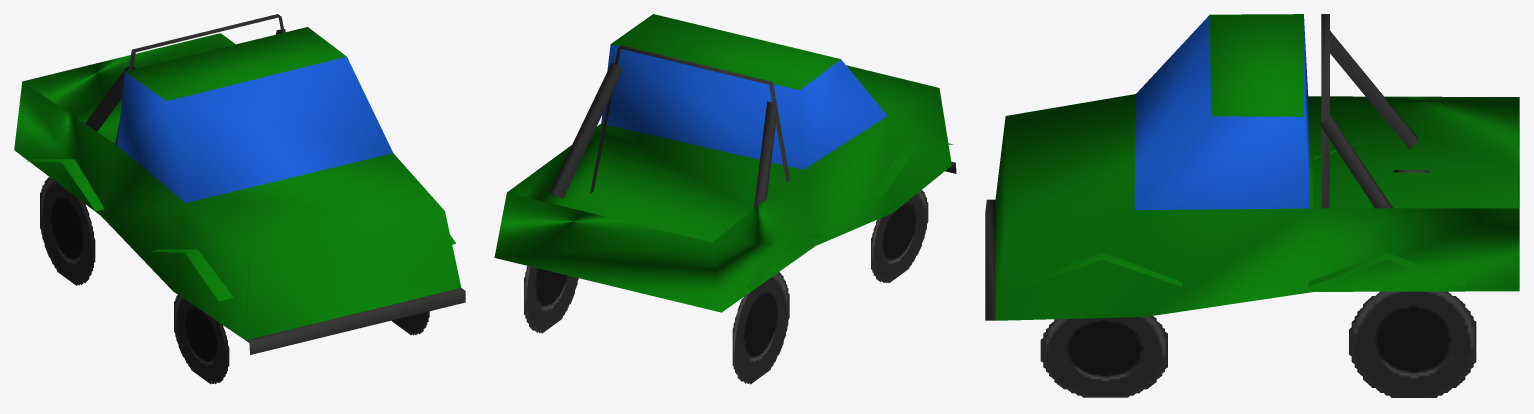
File: ORG_TRUCK_GREEN.obj
The picture shows the model from 3 angles, left to right: view 1: azimuth 30°, elevation 25°; view 2: azimuth 150°, elevation 25°; view 3: azimuth 270°, elevation 25°; orthographic projection. The views are drawn at different scales.
Visible parts, largest first — view 1: default; view 2: default; view 3: default.
Boxes of the visible parts, x1,y1,x2,y2 form: default: (14,14,465,384); default: (494,14,956,384); default: (985,14,1519,397).
Size of the model in its own units: 13.62 by 13.75 by 23.06.
1 material, 1 textured.
